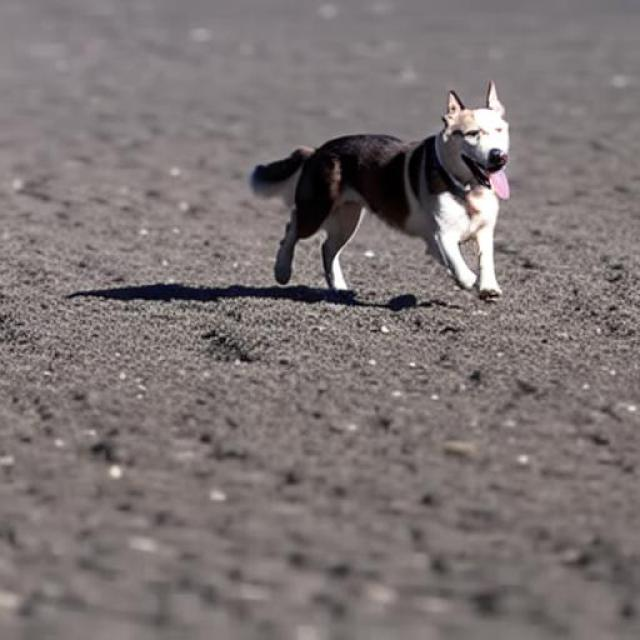Dog: (248, 79, 512, 302)
